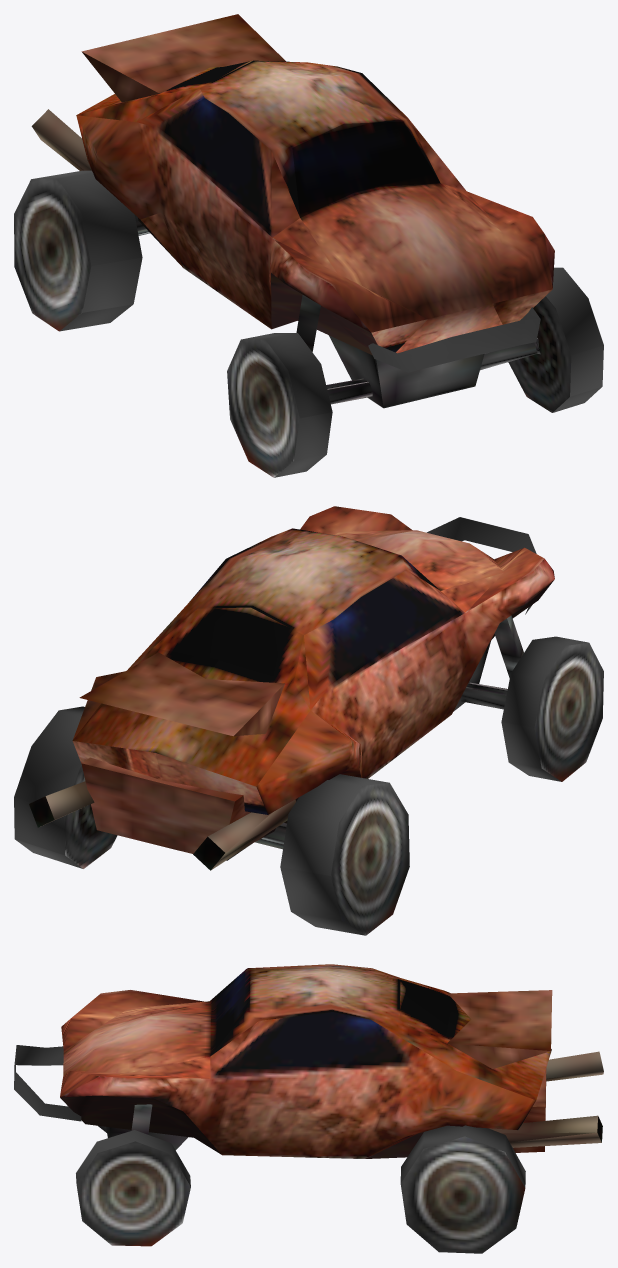
File: iconcopy.ico.obj
3 renders of one model, top to bottom at view 1: azimuth 30°, elevation 25°; view 2: azimuth 150°, elevation 25°; view 3: azimuth 270°, elevation 25°, orthographic. The views are drawn at different scales.
Bounding box in the file's own units: 2.53 × 1.94 × 4.78.
Materials: 1 (1 with a texture image).
